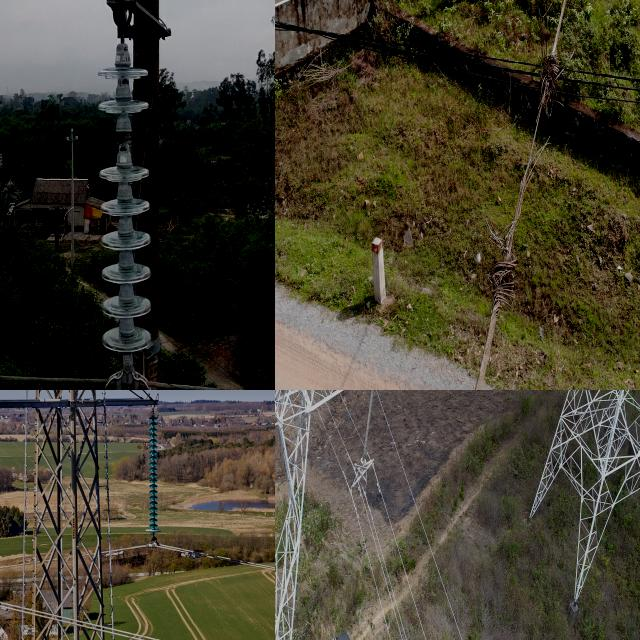杆塔: (0, 390, 189, 640), (523, 390, 640, 614), (275, 390, 376, 640)
正常电缆: (0, 361, 275, 390)
正常绝缘子: (90, 24, 162, 384), (146, 400, 166, 557), (359, 390, 377, 468)
电缆破损: (465, 3, 588, 330)
绝缘子破损: (114, 121, 133, 159)
